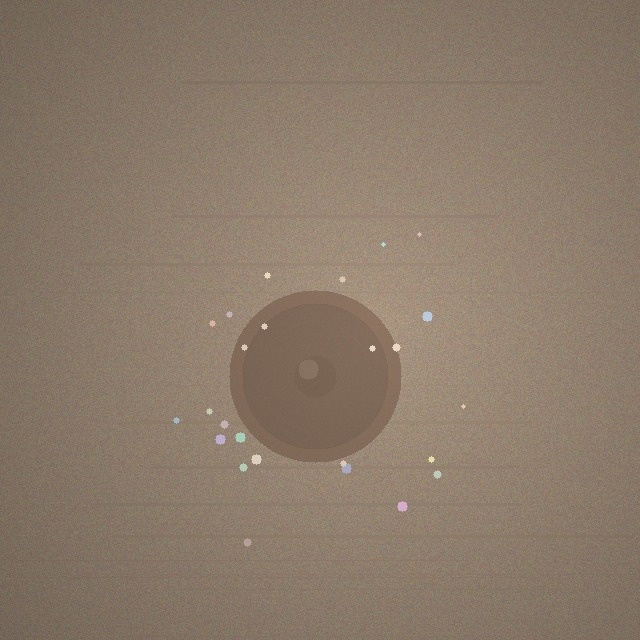overburn: (229, 290, 401, 462)
